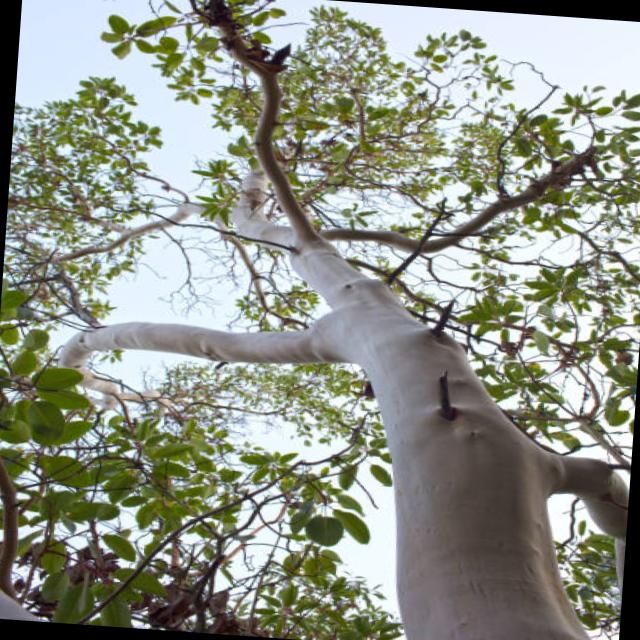Sandalwood: (62, 43, 635, 640)
